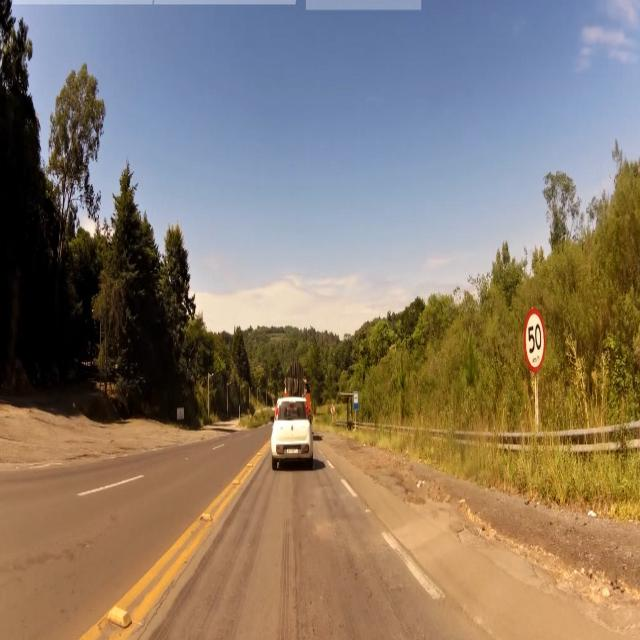R-19: (523, 306, 546, 377)
